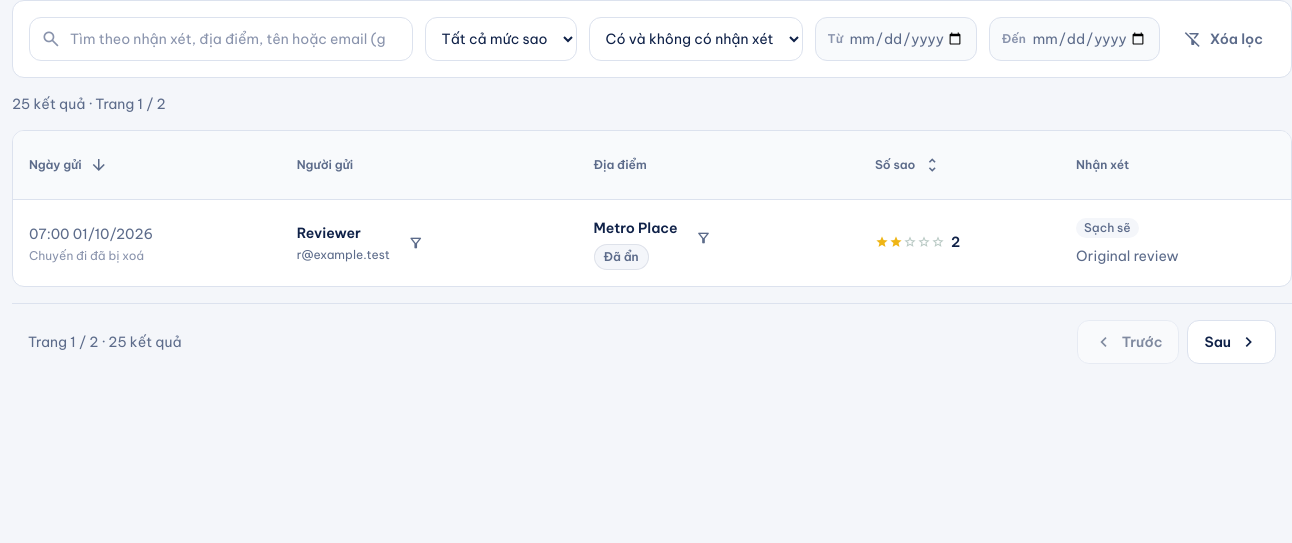
A6 Feedback read-only and exact server data › invalid dates suppress fetch and preserve meaningful alert
Expected: the text "Original review" is shown, x1=1076 y1=247 x2=1179 y2=265
Type "2026-10-07" into the date field named "Gửi từ ngày" at coordinates (906, 39), box x1=849 y1=28 x2=964 y2=50
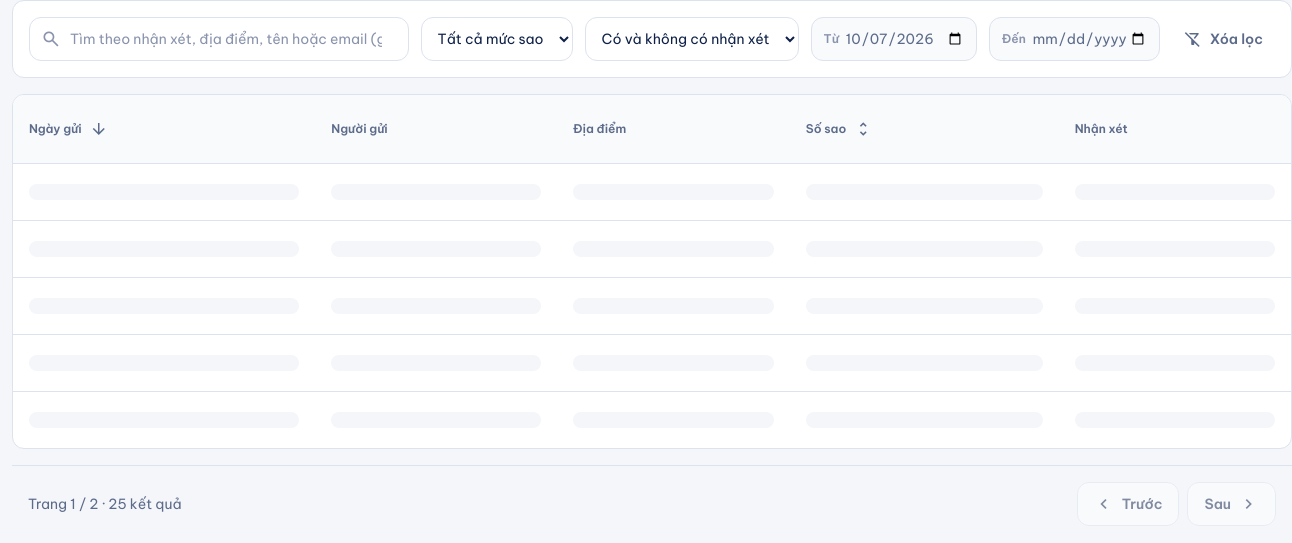
Type "2026-10-01" into the date field named "Gửi đến ngày" at coordinates (1089, 39), box x1=1032 y1=28 x2=1147 y2=50
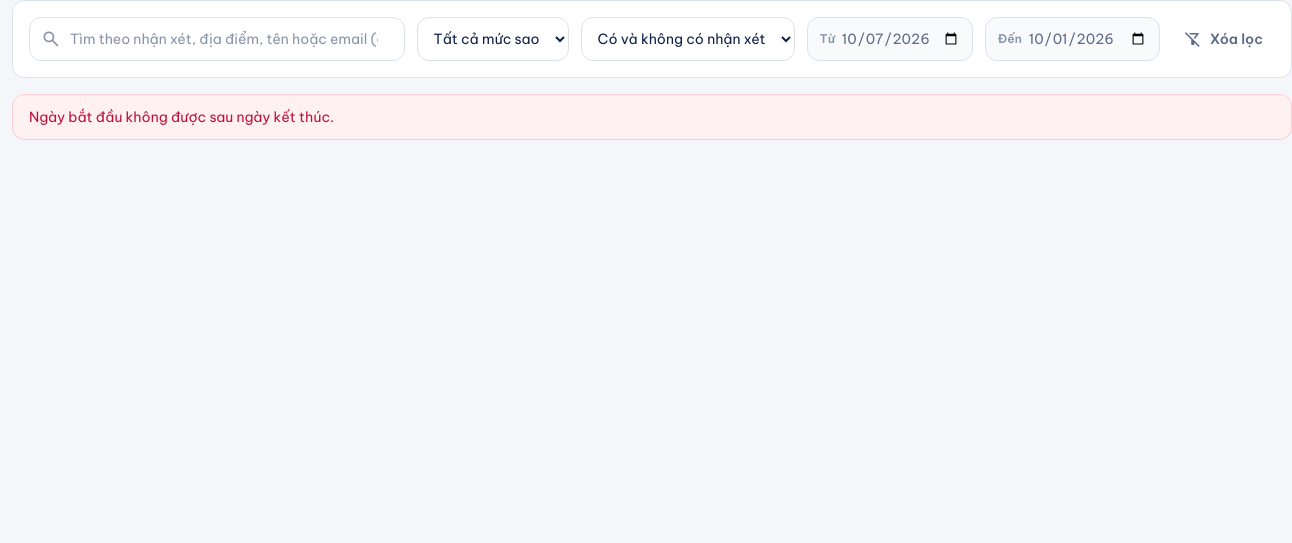
Expected: the message shows "Ngày bắt đầu không được sau ngày kết thúc", x1=29 y1=108 x2=334 y2=126
